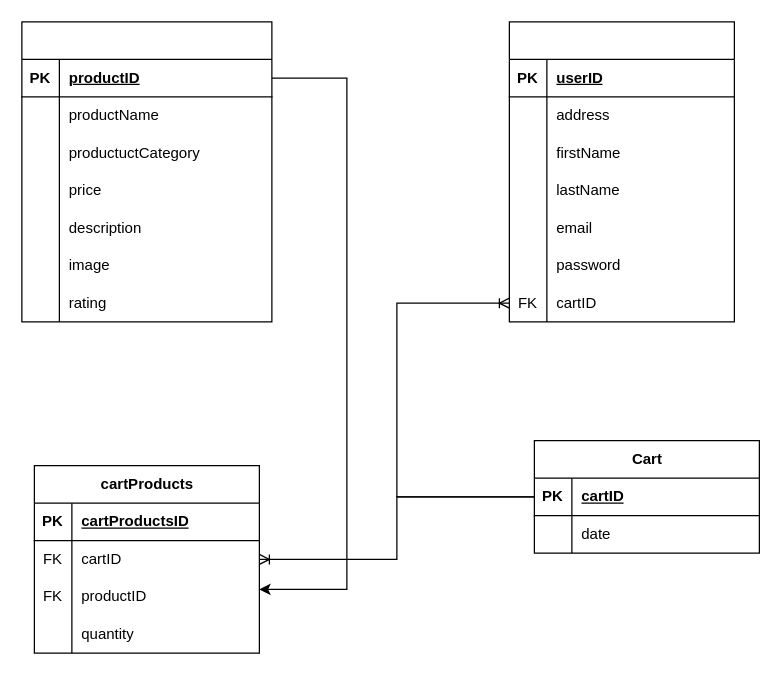
Image size: 781x675. Some labels were removed from this diagram. Here are the shapes that lost their labels. From the top down, the box of each, then its label:
(21, 21, 272, 322): Products
(508, 21, 734, 322): Users
